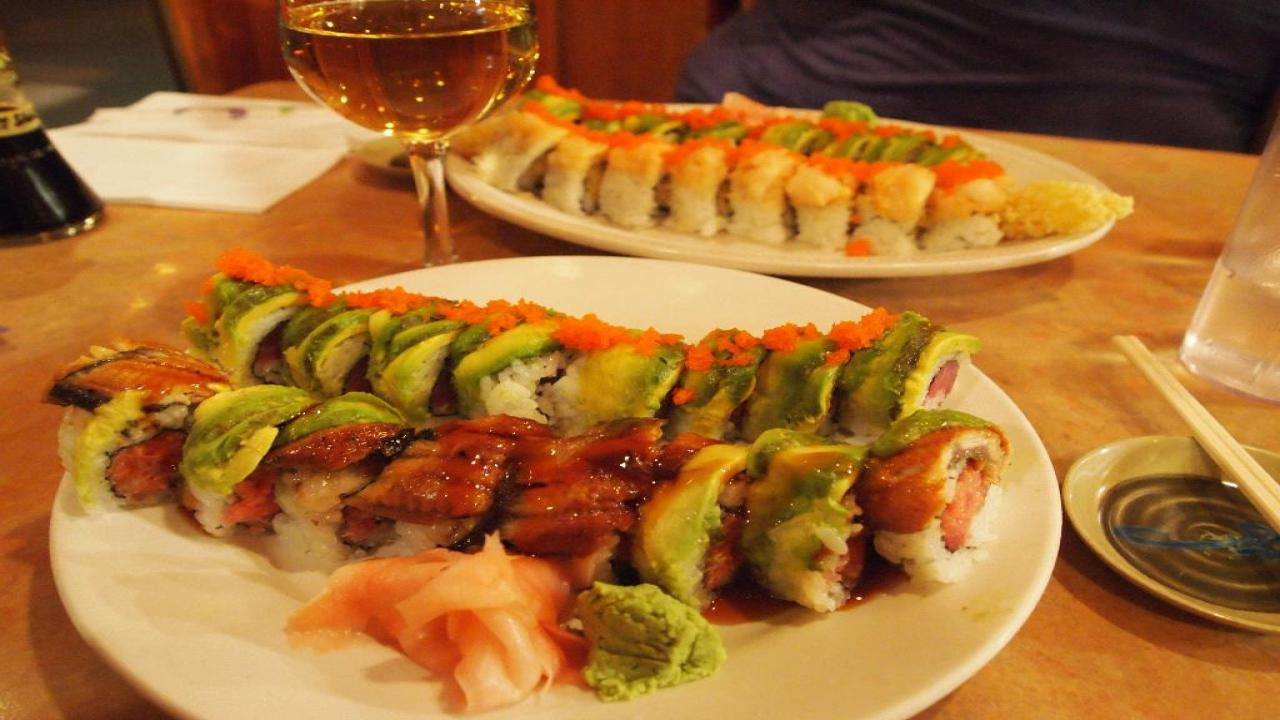chopstick: (1118, 334, 1280, 532)
